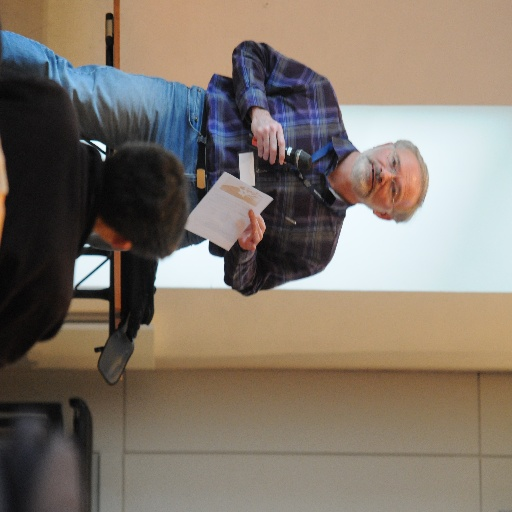hand: (249, 110, 286, 165), (238, 206, 266, 254)
